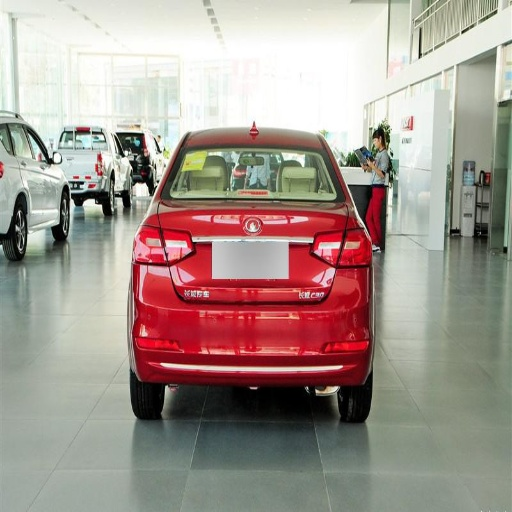back_bumper: (130, 252, 373, 384)
trunk: (138, 199, 346, 349)
